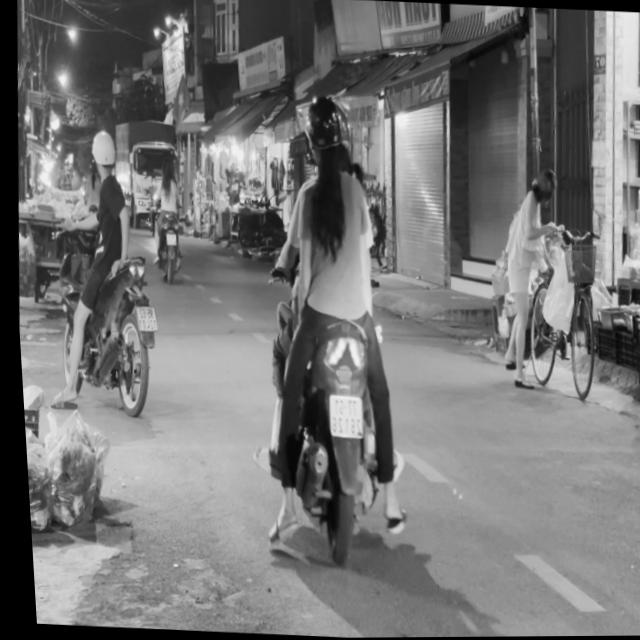helmet: (300, 92, 352, 173), (86, 128, 117, 176)
licenseplate: (231, 84, 423, 568), (36, 123, 169, 417)
nohelmet: (322, 394, 359, 436), (131, 303, 154, 330)
